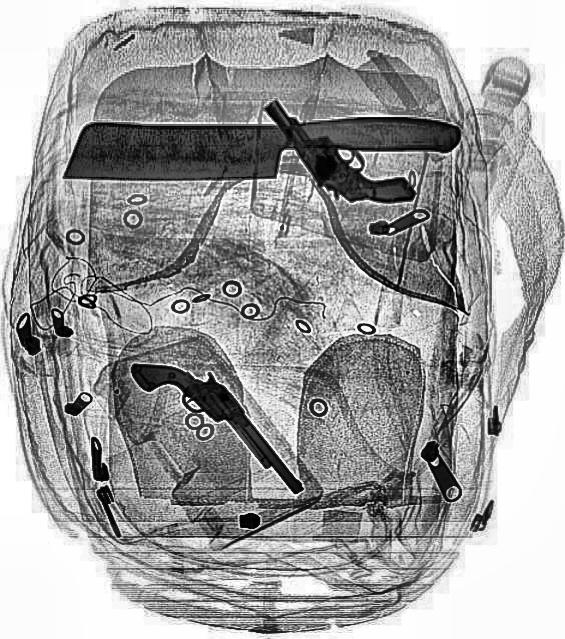Gun: (126, 325, 304, 531), (262, 58, 420, 242)
Knife: (62, 116, 460, 180)
